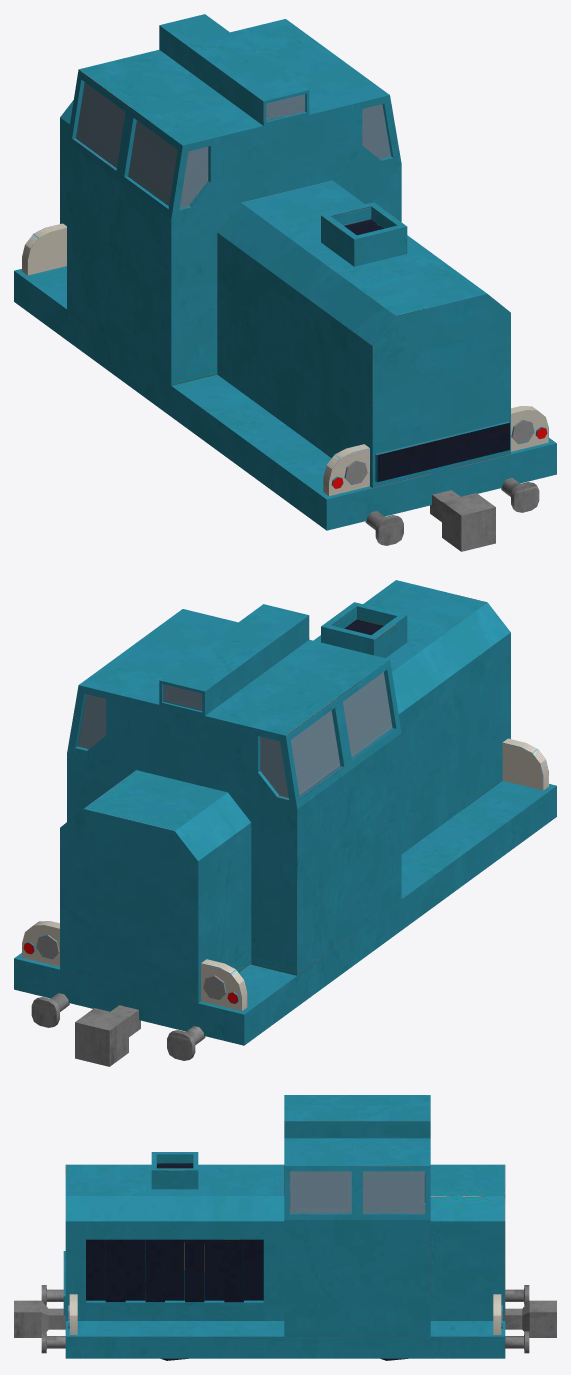
File: loco_01.gltf
The picture shows the model from 3 angles, top to bottom: view 1: azimuth 30°, elevation 25°; view 2: azimuth 150°, elevation 25°; view 3: azimuth 270°, elevation 25°; orthographic projection. The views are drawn at different scales.
Visible parts, largest first — view 1: Disel_1_Disel_1_0; view 2: Disel_1_Disel_1_0; view 3: Disel_1_Disel_1_0.
Boxes of the visible parts, x1,y1,x2,y2 form: Disel_1_Disel_1_0: (14,14,556,551); Disel_1_Disel_1_0: (14,580,556,1066); Disel_1_Disel_1_0: (14,1095,556,1360).
Bounding box in the file's own units: 3.79 × 5.19 × 11.03.
